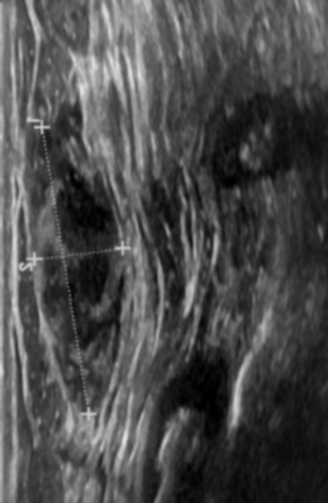Benign: (33, 146, 120, 403)
